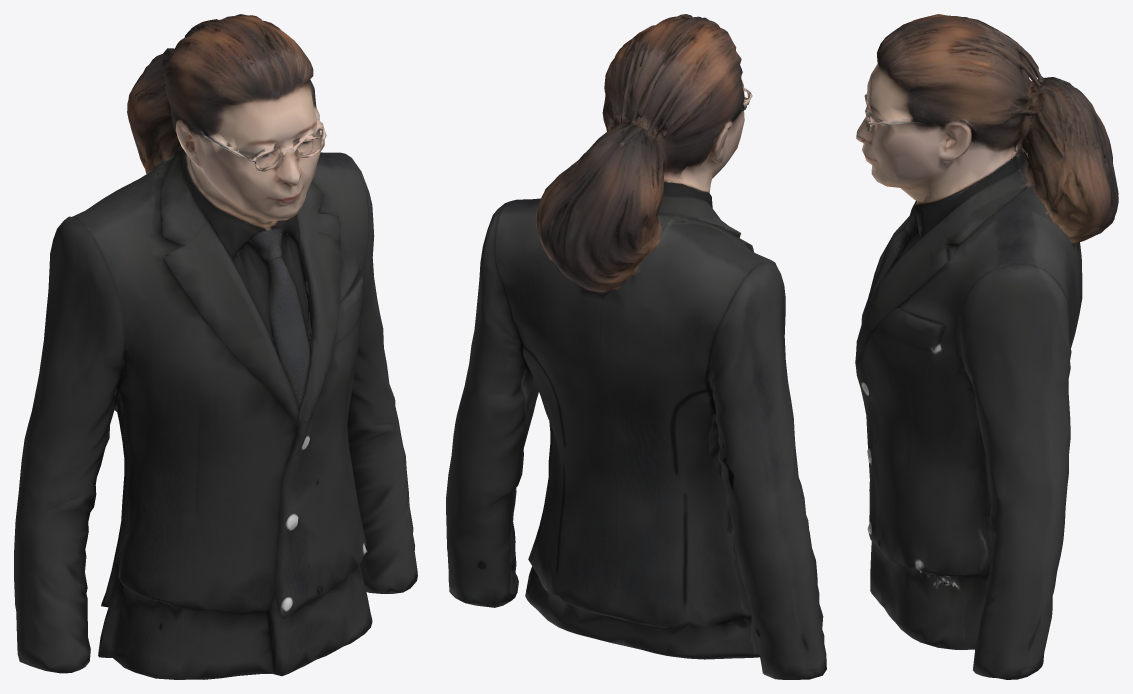
File: David.glb
3 renders of one model, left to right at view 1: azimuth 30°, elevation 25°; view 2: azimuth 150°, elevation 25°; view 3: azimuth 270°, elevation 25°, orthographic. The views are drawn at different scales.
Visible parts, largest first — view 1: Mesh1.0; view 2: Mesh1.0; view 3: Mesh1.0.
Boxes of the visible parts, x1=… form: Mesh1.0: x1=14, y1=14, x2=417, y2=679; Mesh1.0: x1=446, y1=14, x2=826, y2=679; Mesh1.0: x1=855, y1=14, x2=1118, y2=679.
Bounding box in the file's own units: 1.27 × 1.91 × 0.7999.
1 material, 1 textured.
